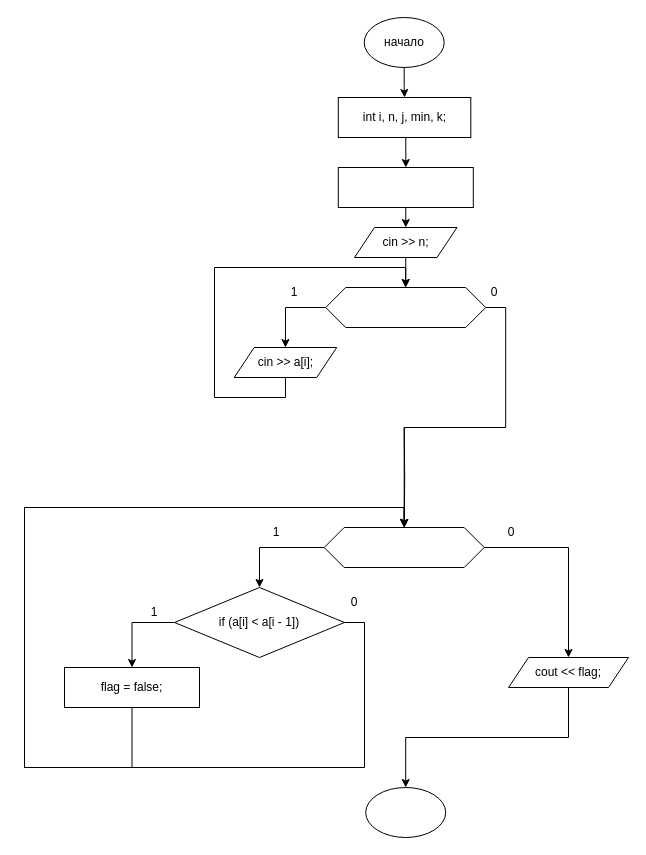
Some shapes in this 646 by 855 pixel diagram are drawn without their labels. Here are the shapes that lost their labels. From the top down, the centre of each, then its label:
At [405,187]: "int a[50];".
At [405,307]: "for (i = 0; i < n; i++)".
At [403,547]: "for (i = 1; i < n; i++)".
At [405,812]: "конец".
